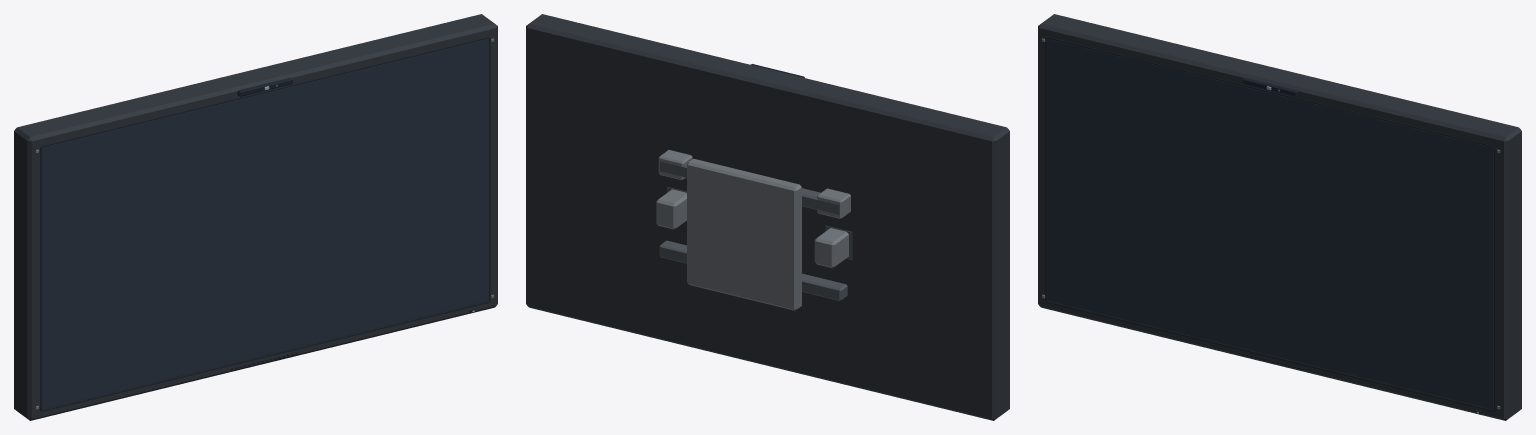
File: 0-20261016-1900-ev013-r02-collab-screenwall.fbx
3 renders of one model, left to right at view 1: azimuth 30°, elevation 25°; view 2: azimuth 150°, elevation 25°; view 3: azimuth 330°, elevation 25°, orthographic.
Parts seen in each view (by area): view 1: SW_Collab_ScreenWall; view 2: SW_Collab_ScreenWall; view 3: SW_Collab_ScreenWall.
Part boxes in pixels (x1,y1,x2,y2): SW_Collab_ScreenWall: (14, 14, 497, 420); SW_Collab_ScreenWall: (526, 14, 1009, 420); SW_Collab_ScreenWall: (1038, 14, 1521, 420).
Size of the model in its own units: 196 by 113 by 27.6.
